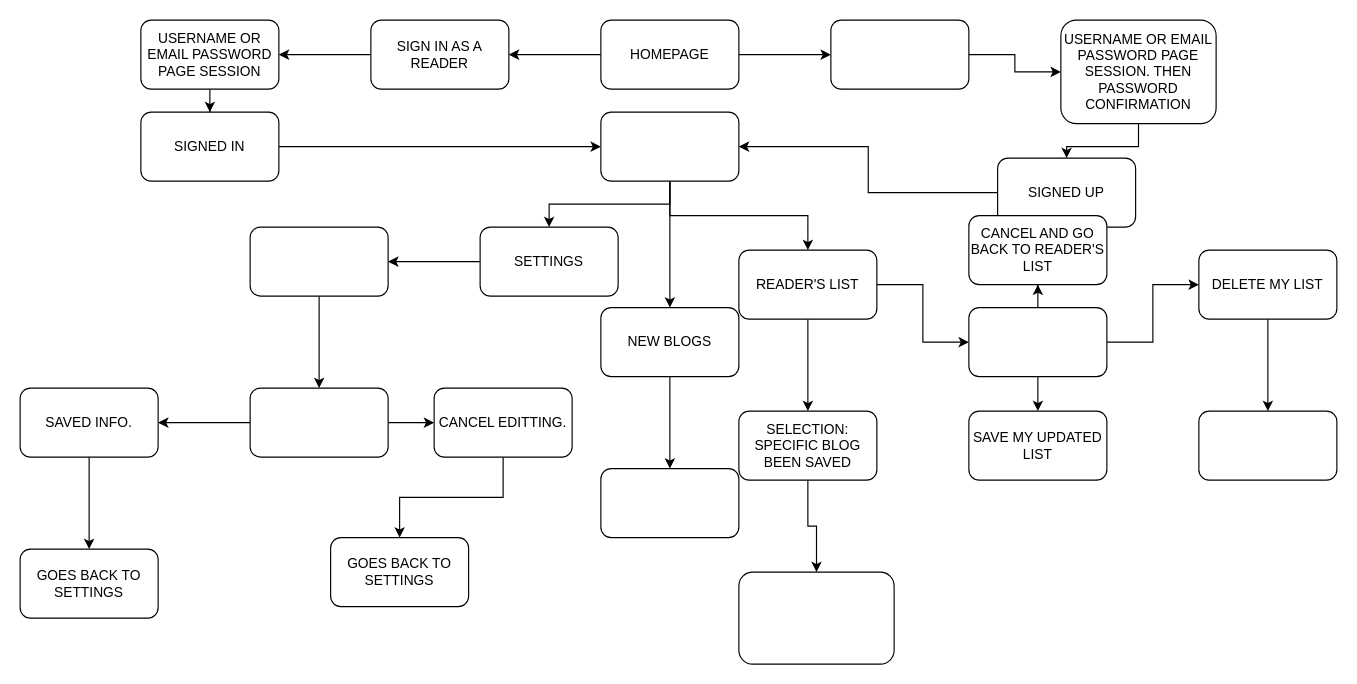
The diagram is 1357 pixels wide and 684 high, and some of its shapes have lost their labels. Each missing label, with the box of its shape:
DELETES SPECIFIC LIST: (1198, 410, 1337, 480)
EDIT MY INFORMATION: (249, 226, 388, 296)
EDIT MY LISTS: (968, 306, 1107, 377)
EDITS MY USERNAME OR EMAIL AND PASSWORD: (249, 387, 388, 457)
LANDS INTO AN UPDATED NEW CONTENTS. NOTE: ...: (600, 467, 739, 538)
SHOWS AND DISPLAYS THE BLOG THAT WAS SAVED BY THE READER: (738, 571, 894, 664)
SIGN UP AS A READER: (830, 19, 969, 89)
WELCOME READER'S PAGE: (600, 111, 739, 181)
